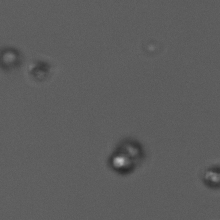Dead Cell: (26, 58, 52, 81)
Living Cell: (109, 151, 134, 172), (121, 139, 144, 160), (1, 47, 20, 68)
